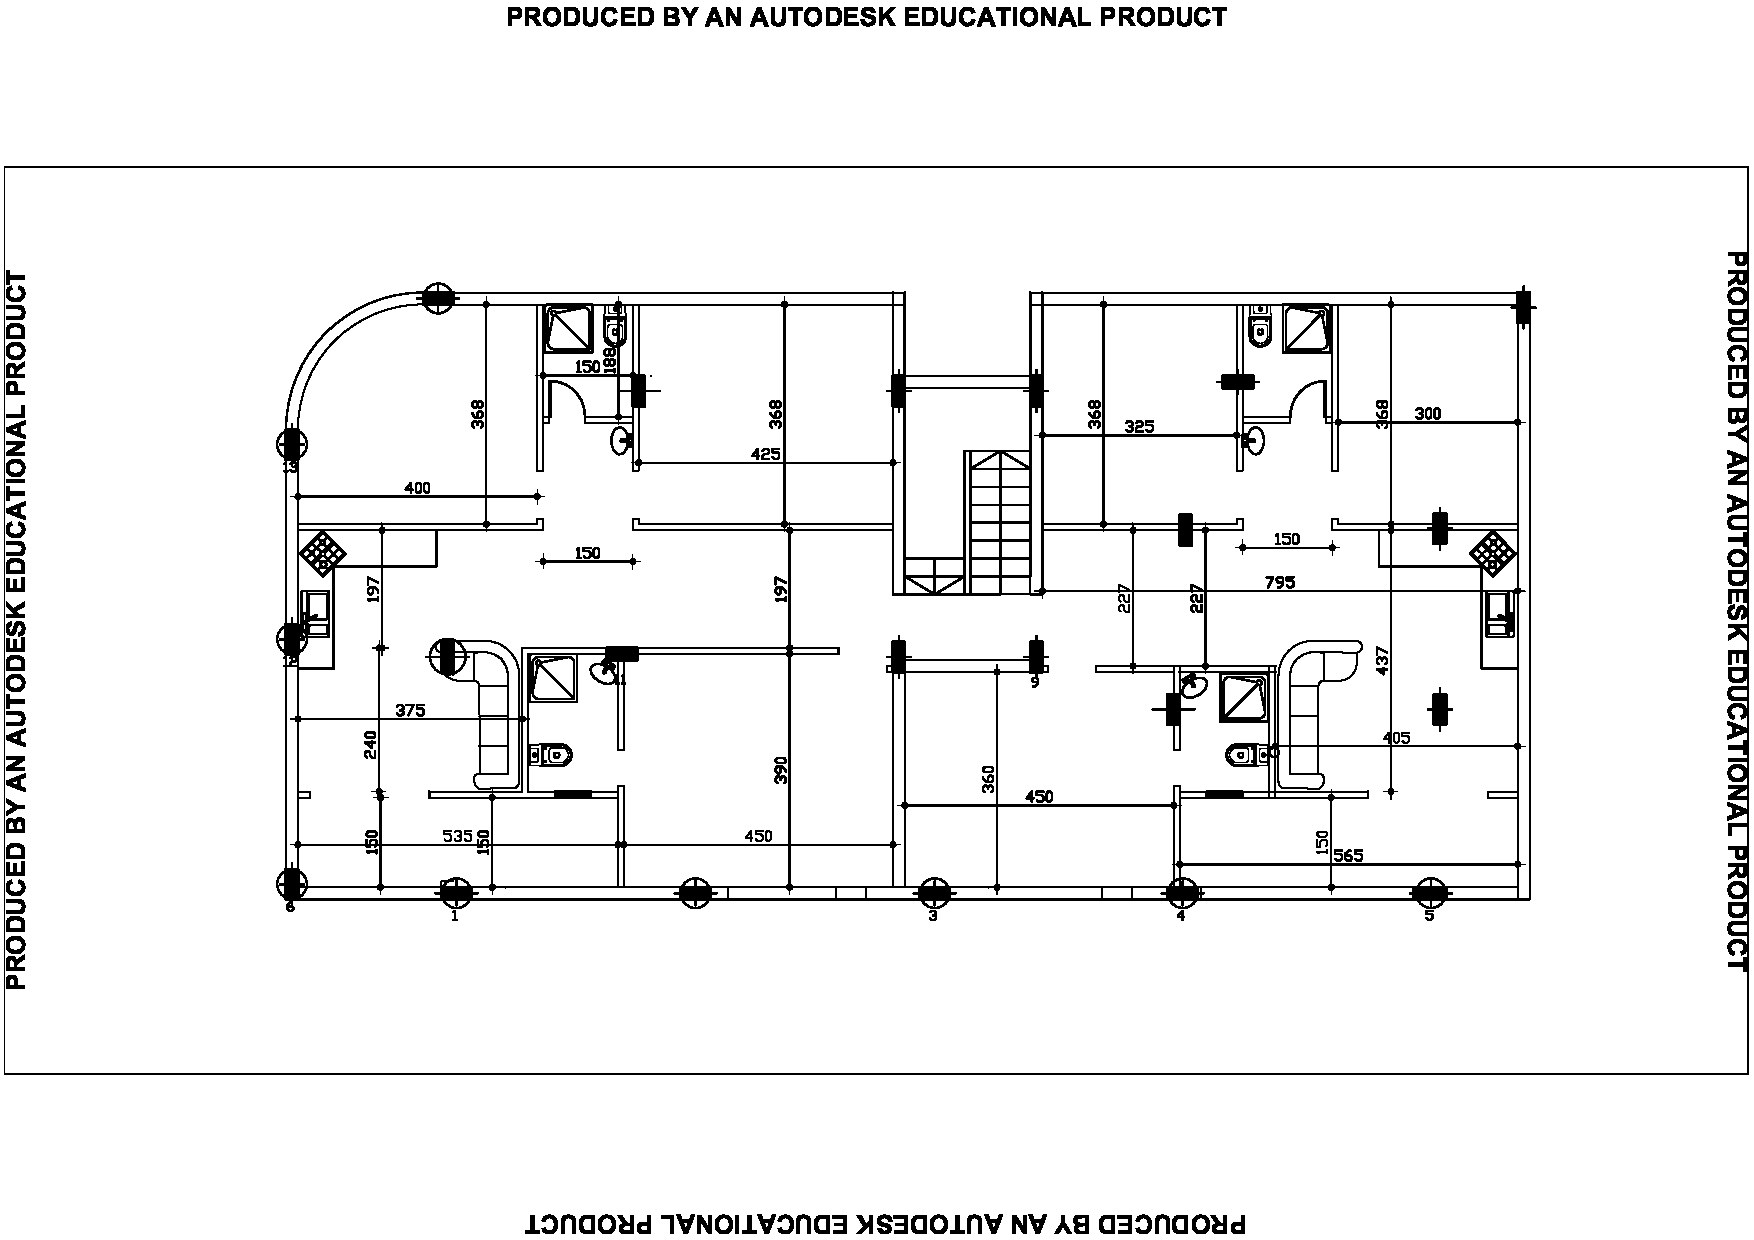door: (1284, 370, 1329, 431), (546, 378, 578, 413)
